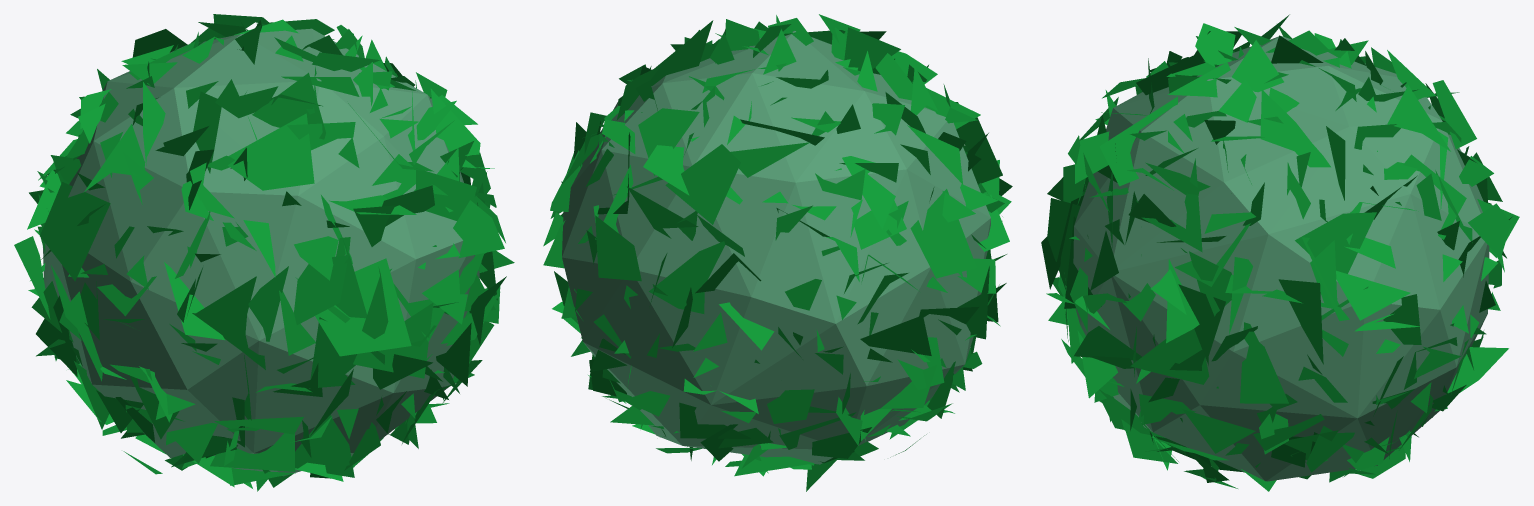
Rendered from bush (1).fbx.
3 views of the same model, side by side, from view 1: azimuth 30°, elevation 25°; view 2: azimuth 150°, elevation 25°; view 3: azimuth 270°, elevation 25° (orthographic). The views are drawn at different scales.
Parts seen in each view (by area): view 1: Cube.001, Cube; view 2: Cube, Cube.001; view 3: Cube, Cube.001.
Part boxes in pixels (x1,y1,x2,y2): Cube.001: (14, 14, 514, 491); Cube: (43, 28, 479, 476); Cube: (562, 31, 990, 464); Cube.001: (543, 14, 1012, 491); Cube: (1073, 35, 1489, 481); Cube.001: (1041, 14, 1519, 491).
Size of the model in its own units: 184 by 191 by 188.
